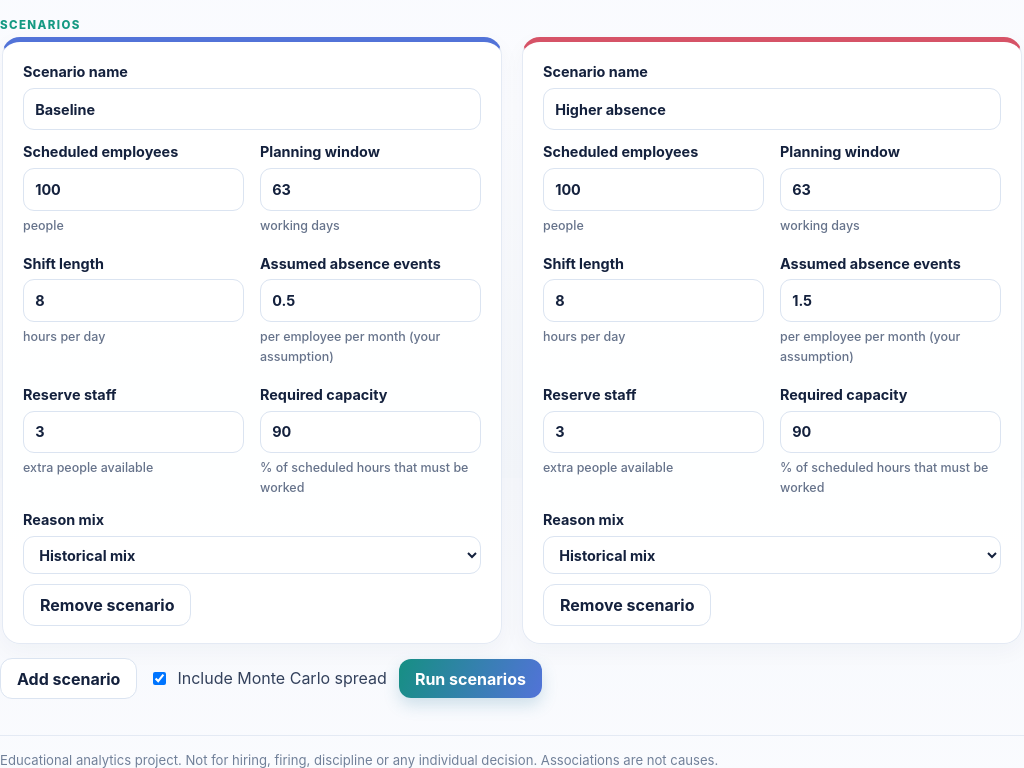
Planning page › runs scenarios and shows the comparison, shortfall labels and disclaimer
This screenshot has width=1024, height=768.
(page scrolled)
Click the button "Run scenarios" at (470, 679), box [399,659,542,698]
(page scrolled)
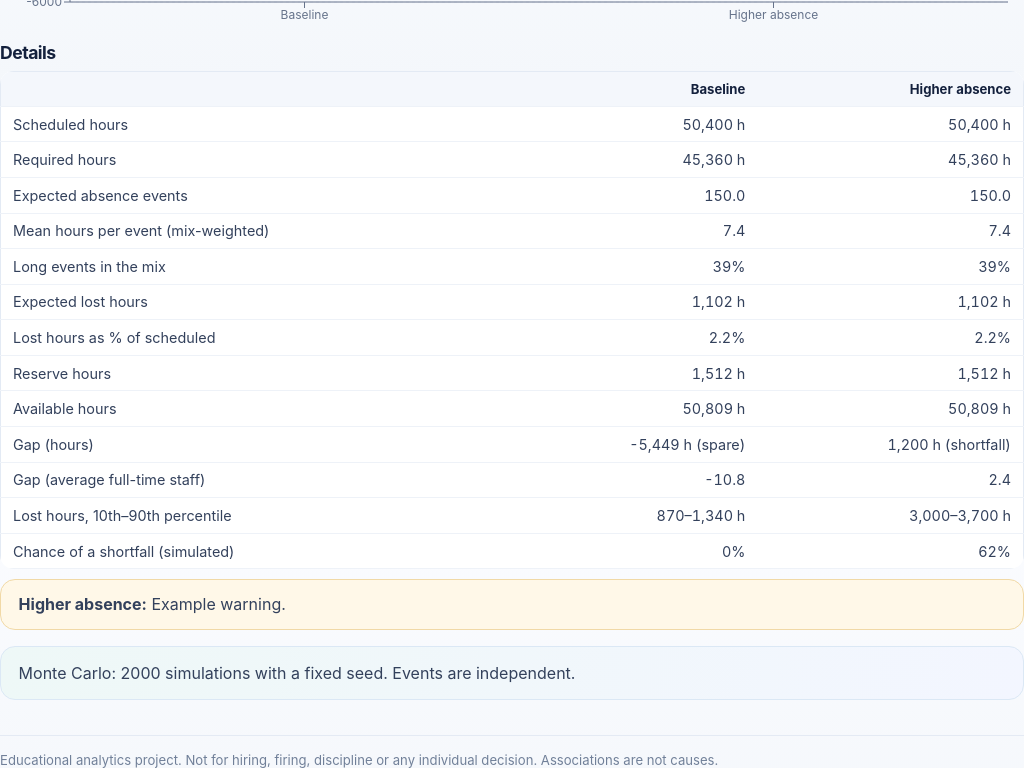
Now the text "1,200 h (shortfall)" is shown, box [757,427,1023,462]
Now the text "-5,449 h (spare)" is shown, box [505,427,757,462]
Now the text "Higher absence: Example warning." is shown, box [0,579,1023,630]
